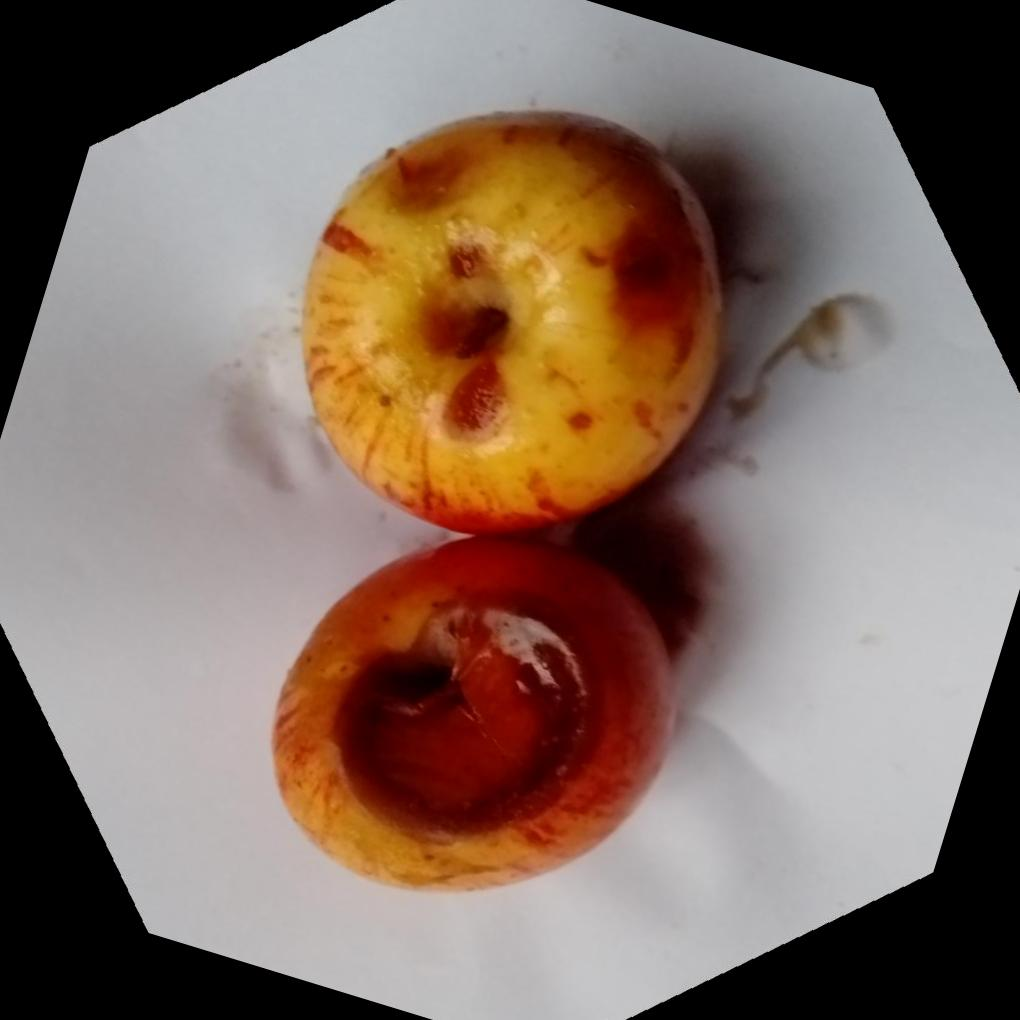FreshOrange: (266, 106, 724, 893)
